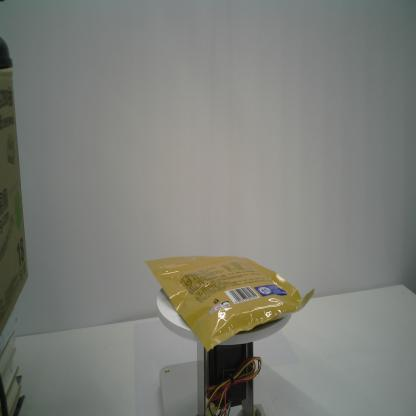Dried Fruit: (142, 254, 316, 354)
